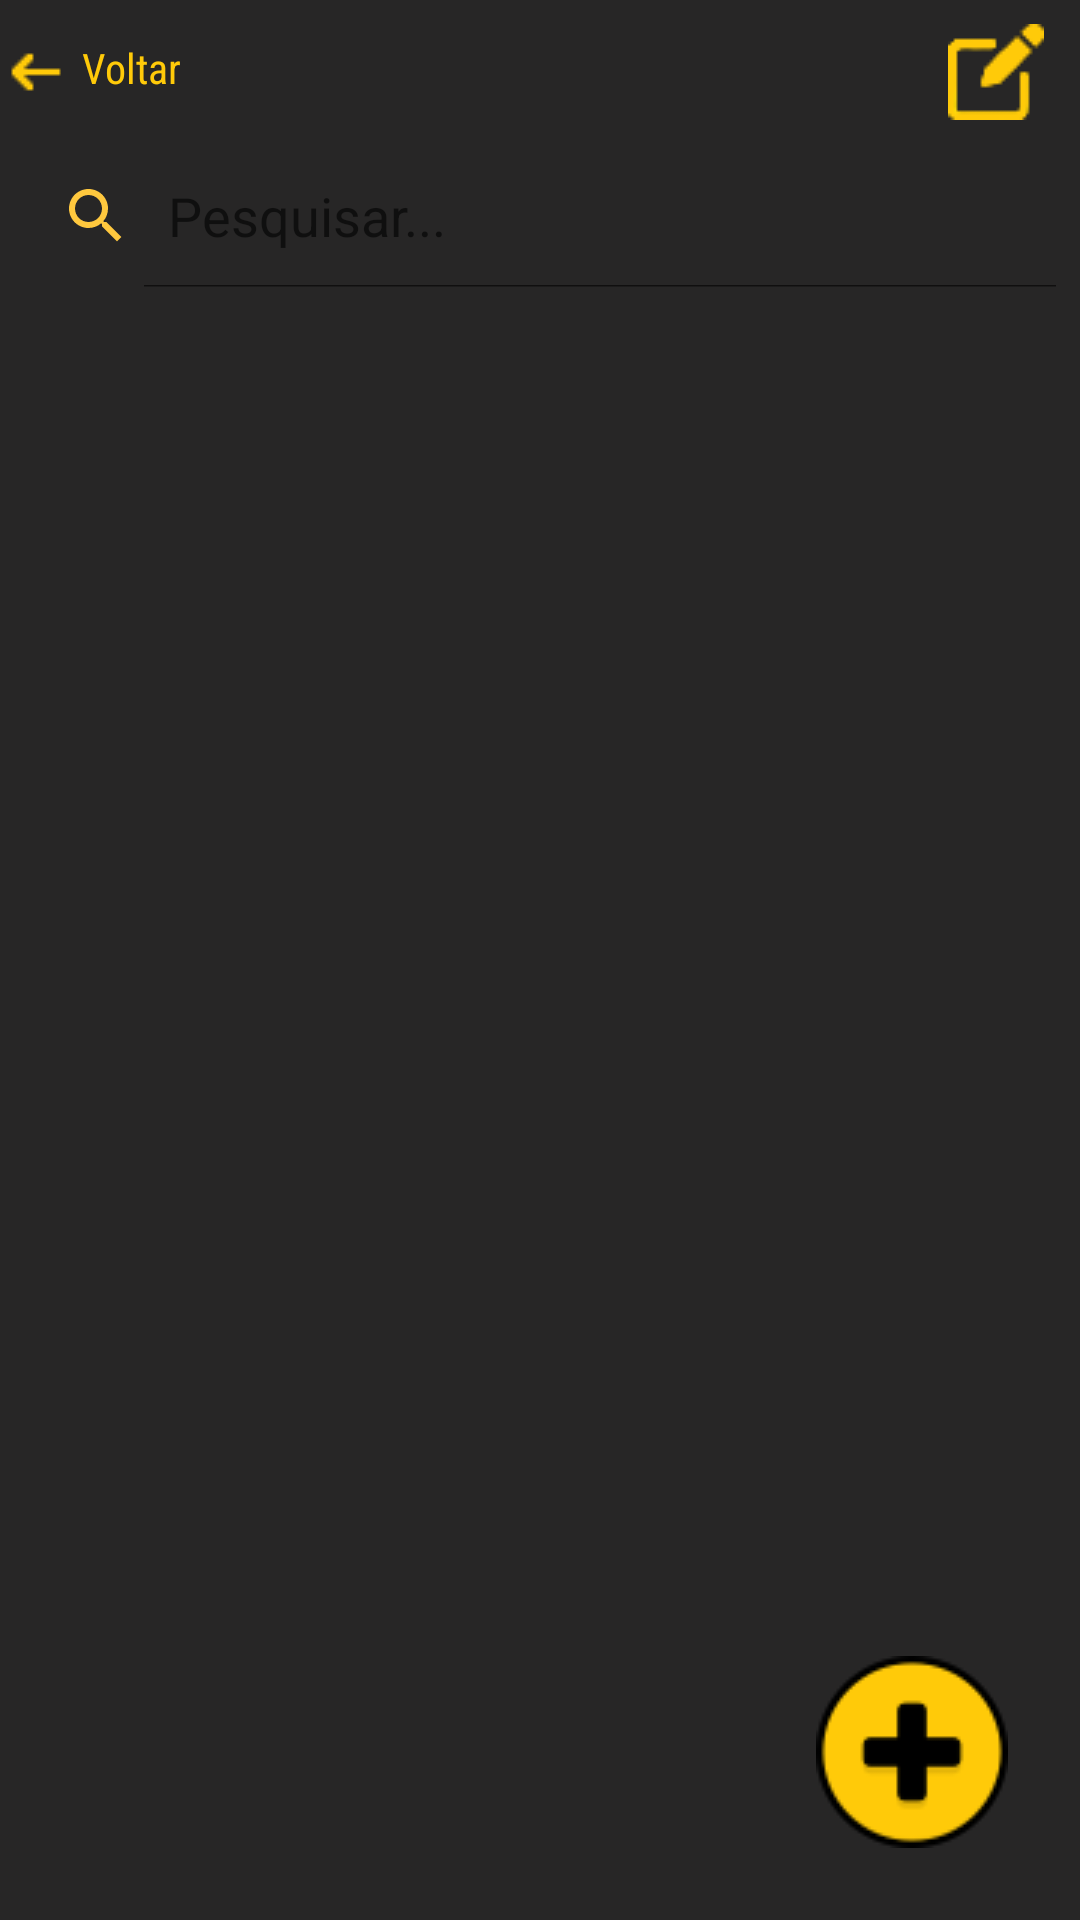

Named icons in this screenshot (1080 x 1920) and their centers, [x,y]:
plus: [912,1752]
